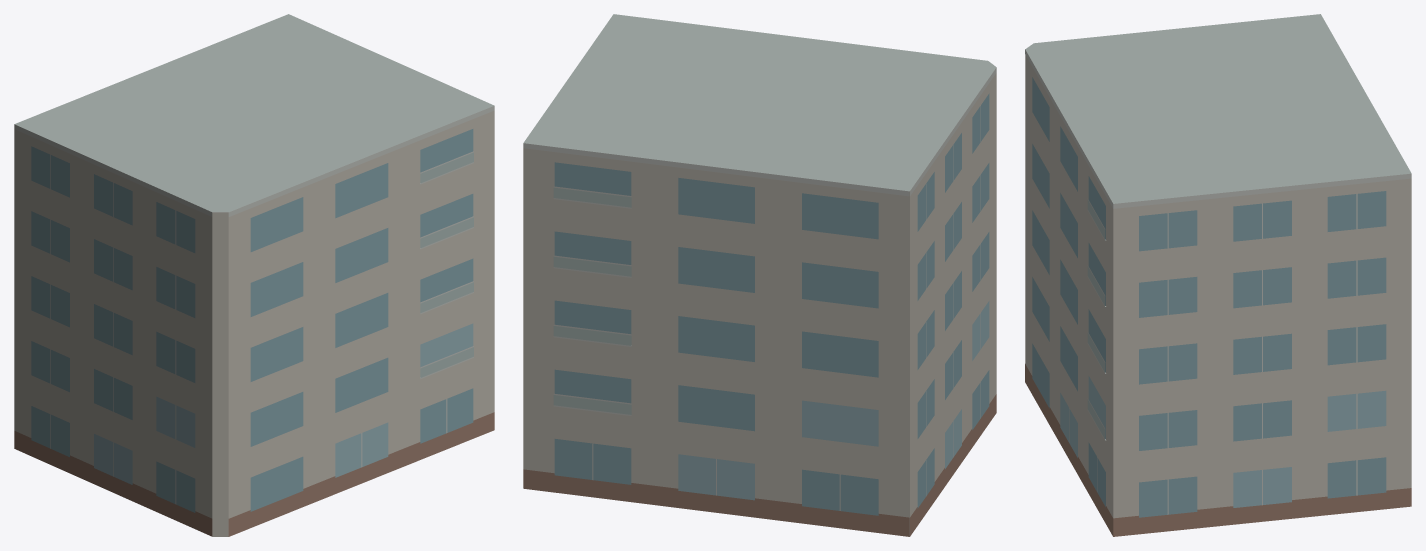
File: survey-upis-32710408.glb
The picture shows the model from 3 angles, left to right: view 1: azimuth 30°, elevation 25°; view 2: azimuth 150°, elevation 25°; view 3: azimuth 270°, elevation 25°; orthographic projection. The views are drawn at different scales.
Parts seen in each view (by area): view 1: survey-upis-32710408.tmp; view 2: survey-upis-32710408.tmp; view 3: survey-upis-32710408.tmp.
Boxes of the visible parts, bbox=[...] form: survey-upis-32710408.tmp: bbox=[14, 14, 494, 536]; survey-upis-32710408.tmp: bbox=[523, 14, 996, 536]; survey-upis-32710408.tmp: bbox=[1025, 14, 1411, 536].
Size of the model in its own units: 20.2 by 16.5 by 17.37.
